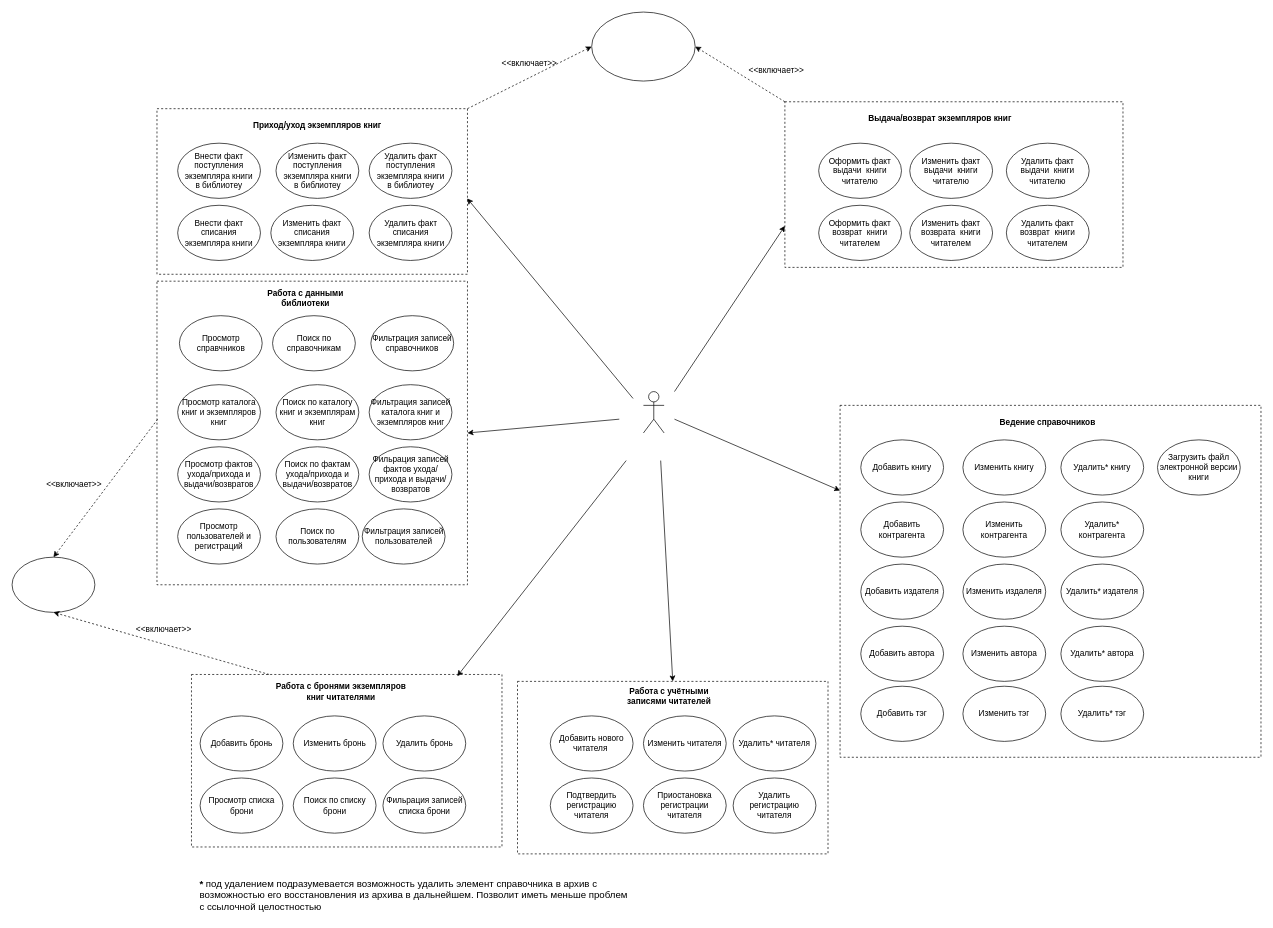
Some shapes in this 1273 by 928 pixel diagram are drawn without their labels. Each missing label, with the centre of its shape:
Библиотекарь: [653,412]
Ввести информацию о состоянии экземпляра книги: [643,46]
Упрощённая выгрузка списков в Excel для анализа: [53,584]
